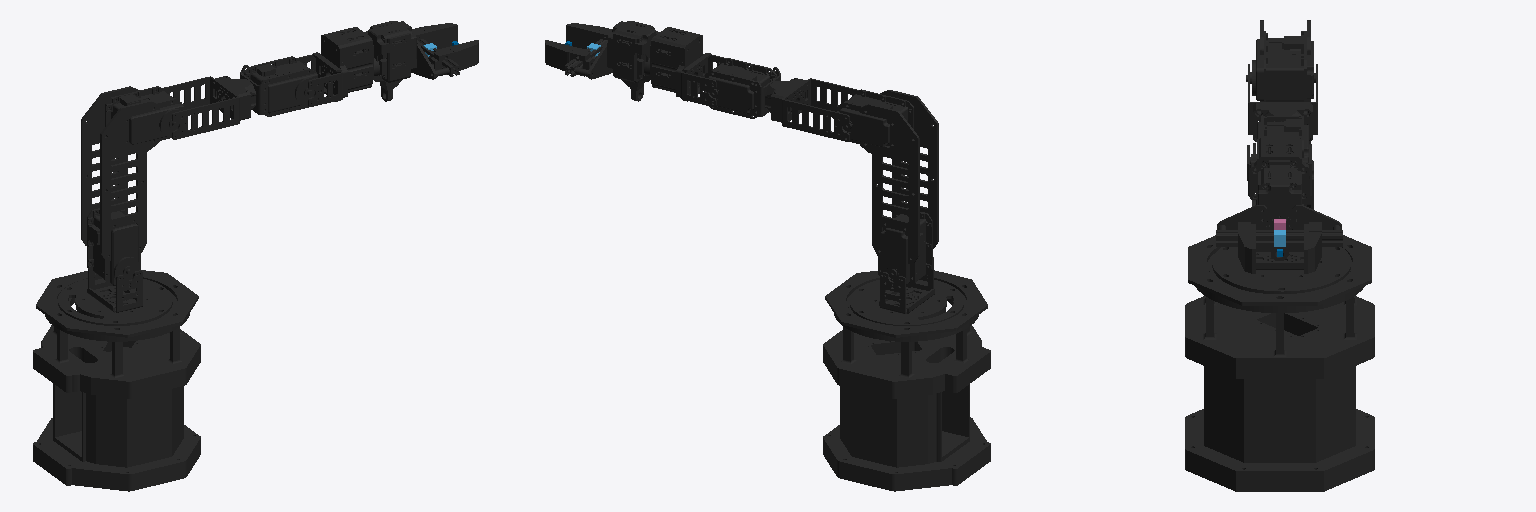
URDF robot description (widowxl):
<?xml version="1.0" ?>
<robot name="widowxl">
  
  <material name="interbotix_black">
    <color rgba="0.2 0.2 0.2 1.0"/>
  </material>

  <link name="widowxl/base_link">
    <visual>
      <origin rpy="0 0 0" xyz="0 0 0"/>
      <geometry>
        <mesh filename="package://my_widowxl_description/meshes/base_link.stl" scale="0.001 0.001 0.001"/>
      </geometry>
      <material name="interbotix_black"/>
    </visual>
    <collision>
      <origin rpy="0 0 0" xyz="0 0 0.05"/>
      <geometry>
        <cylinder length="0.1" radius="0.07"/>
      </geometry>
    </collision>
  </link>

  <joint name="waist" type="revolute">
    <axis xyz="0 0 1"/>
    <limit effort="10" lower="-3.1415" upper="3.1415" velocity="1.571"/>
    <origin rpy="0 0 0" xyz="0 0 0.167"/>
    <parent link="widowxl/base_link"/>
    <child link="widowxl/shoulder_link"/>
    <dynamics friction="0.1"/>
  </joint>

  <link name="widowxl/shoulder_link">
    <visual>
      <origin rpy="0 0 0" xyz="0 0 -0.167"/>
      <geometry>
        <mesh filename="package://my_widowxl_description/meshes/shoulder_link__4__1.stl" scale="0.001 0.001 0.001"/>
      </geometry>
      <material name="interbotix_black"/>
    </visual>
    <collision>
      <origin rpy="0 0 0" xyz="0 0 -0.167"/>
      <geometry>
        <cylinder length="0.1" radius="0.04"/>
      </geometry>
    </collision>
    <inertial>
      <origin rpy="0 0 0" xyz="0 0 -0.167"/>
      <mass value="0.5"/>
      <inertia ixx="0.001" ixy="0.0" ixz="0.0" iyy="0.001" iyz="0.0" izz="0.001"/>
    </inertial>
  </link>

  <joint name="shoulder" type="revolute">
    <axis xyz="0 1 0"/>
    <limit effort="20" lower="-1.571" upper="1.571" velocity="1.571"/>
    <origin rpy="0 0 0" xyz="0 0 0.0367"/>
    <parent link="widowxl/shoulder_link"/>
    <child link="widowxl/upper_arm_link"/>
    <dynamics friction="0.1"/>
  </joint>

  <link name="widowxl/upper_arm_link">
    <visual>
      <origin rpy="0 0 0" xyz="0 0 -0.2"/>
      <geometry>
        <mesh filename="package://my_widowxl_description/meshes/biceps_link_1.stl" scale="0.001 0.001 0.001"/>
      </geometry>
      <material name="interbotix_black"/>
    </visual>
    <collision>
      <origin rpy="0 1.5708 0" xyz="0.1 0 -0.2"/>
      <geometry>
        <cylinder length="0.15" radius="0.04"/>
      </geometry>
    </collision>
    <inertial>
      <origin rpy="0 0 0" xyz="0 0 -0.2"/>
      <mass value="0.5"/>
      <inertia ixx="0.001" ixy="0.0" ixz="0.0" iyy="0.001" iyz="0.0" izz="0.001"/>
    </inertial>
  </link>

  <joint name="elbow" type="revolute">
    <axis xyz="0 1 0"/>
    <limit effort="15" lower="-1.571" upper="1.571" velocity="1.571"/>
    <origin rpy="0 0 0" xyz="0.05 0 0.145"/>
    <parent link="widowxl/upper_arm_link"/>
    <child link="widowxl/forearm_link"/>
    <dynamics friction="0.1"/>
  </joint>

  <link name="widowxl/forearm_link">
    <visual>
      <origin rpy="0 0 0" xyz="-0.05 0 -0.347"/>
      <geometry>
        <mesh filename="package://my_widowxl_description/meshes/forearm_link_1.stl" scale="0.001 0.001 0.001"/>
      </geometry>
      <material name="interbotix_black"/>
    </visual>
    <collision>
      <origin rpy="0 1.5708 0" xyz="0.12 0 -0.347"/>
      <geometry>
         <cylinder length="0.25" radius="0.03"/>
      </geometry>
    </collision>
    <inertial>
      <origin rpy="0 0 0" xyz="-0.05 0 -0.347"/>
      <mass value="0.3"/>
      <inertia ixx="0.001" ixy="0.0" ixz="0.0" iyy="0.001" iyz="0.0" izz="0.001"/>
    </inertial>
  </link>

  <joint name="wrist_angle" type="revolute">
    <axis xyz="0 1 0"/>
    <limit effort="5" lower="-1.745" upper="1.745" velocity="1.571"/>
    <origin rpy="0 0 0" xyz="0.15 0 0"/>
    <parent link="widowxl/forearm_link"/>
    <child link="widowxl/wrist_link"/>
    <dynamics friction="0.1"/>
  </joint>

  <link name="widowxl/wrist_link">
    <visual>
      <origin rpy="0 0 0" xyz="-0.2 0 -0.347"/>
      <geometry>
        <mesh filename="package://my_widowxl_description/meshes/wrist_1_1.stl" scale="0.001 0.001 0.001"/>
      </geometry>
      <material name="interbotix_black"/>
    </visual>
    <collision>
       <origin rpy="0 0 0" xyz="-0.2 0 -0.347"/>
       <geometry>
         <box size="0.06 0.04 0.04"/>
       </geometry>
    </collision>
    <inertial>
      <origin rpy="0 0 0" xyz="-0.2 0 -0.347"/>
      <mass value="0.1"/>
      <inertia ixx="0.001" ixy="0.0" ixz="0.0" iyy="0.001" iyz="0.0" izz="0.001"/>
    </inertial>
  </link>

  <joint name="wrist_rotate" type="revolute">
    <axis xyz="1 0 0"/>
    <limit effort="1" lower="-2.167" upper="2.167" velocity="1.571"/>
    <origin rpy="0 0 0" xyz="0.08 0 0"/>
    <parent link="widowxl/wrist_link"/>
    <child link="widowxl/wrist_2_link"/>
    <dynamics friction="0.1"/>
  </joint>

  <link name="widowxl/wrist_2_link">
    <visual>
      <origin rpy="0 0 0" xyz="-0.28 0.0 -0.347"/>
      <geometry>
        <mesh filename="package://my_widowxl_description/meshes/wrist_2_1.stl" scale="0.001 0.001 0.001"/>
      </geometry>
      <material name="interbotix_black"/>
    </visual>
    <collision>
      <origin rpy="0 0 0" xyz="-0.28 0.0 -0.347"/>
      <geometry>
        <box size="0.04 0.04 0.04"/>
      </geometry>
    </collision>
    <inertial>
      <origin rpy="0 0 0" xyz="-0.28 0.0 -0.347"/>
      <mass value="0.1"/>
      <inertia ixx="0.001" ixy="0.0" ixz="0.0" iyy="0.001" iyz="0.0" izz="0.001"/>
    </inertial>
  </link>

  <joint name="ee_arm" type="fixed">
    <axis xyz="1 0 0"/>
    <origin rpy="0 0 0" xyz="0.043 0 0"/>
    <parent link="widowxl/wrist_2_link"/>
    <child link="widowxl/ee_arm_link"/>
  </joint>

  <link name="widowxl/ee_arm_link">
    <visual>
      <geometry><box size="0.01 0.01 0.01"/></geometry>
    </visual>
    <inertial>
      <mass value="0.001"/>
      <inertia ixx="0.001" ixy="0" ixz="0" iyy="0.001" iyz="0" izz="0.001"/>
    </inertial>
  </link>

  <joint name="gripper" type="continuous">
    <axis xyz="1 0 0"/>
    <limit effort="1" velocity="3.1415"/>
    <origin rpy="0 0 0" xyz="0.0055 0 0"/>
    <parent link="widowxl/ee_arm_link"/>
    <child link="widowxl/gripper_prop_link"/>
  </joint>

  <link name="widowxl/gripper_prop_link">
    <inertial>
      <mass value="0.01"/>
      <inertia ixx="0.001" ixy="0.0" ixz="0.0" iyy="0.001" iyz="0.0" izz="0.001"/>
    </inertial>
  </link>

  <joint name="gripper_bar" type="fixed">
    <axis xyz="1 0 0"/>
    <origin rpy="0 0 0" xyz="0 0 0"/>
    <parent link="widowxl/ee_arm_link"/>
    <child link="widowxl/gripper_bar_link"/>
  </joint>

  <link name="widowxl/gripper_bar_link">
    <inertial>
      <origin rpy="0 0 1.5707" xyz="0.009 0.0 0.004"/>
      <mass value="0.05"/>
      <inertia ixx="0.001" ixy="0.0" ixz="0.0" iyy="0.001" iyz="0.0" izz="0.001"/>
    </inertial>
  </link>

  <joint name="ee_bar" type="fixed">
    <axis xyz="1 0 0"/>
    <origin rpy="0 0 0" xyz="0.023 0 0"/>
    <parent link="widowxl/gripper_bar_link"/>
    <child link="widowxl/fingers_link"/>
  </joint>

  <link name="widowxl/fingers_link">
    <visual>
      <geometry><box size="0.01 0.01 0.01"/></geometry>
    </visual>
    <inertial>
      <mass value="0.01"/>
      <inertia ixx="0.001" ixy="0" ixz="0" iyy="0.001" iyz="0" izz="0.001"/>
    </inertial>
  </link>

  <joint name="left_finger" type="prismatic">
    <axis xyz="0 1 0"/>
    <limit effort="5" lower="0.015" upper="0.037" velocity="1"/>
    <origin rpy="0 0 0" xyz="0 0 0"/>
    <parent link="widowxl/fingers_link"/>
    <child link="widowxl/left_finger_link"/>
    <dynamics friction="0.1"/>
  </joint>

  <link name="widowxl/left_finger_link">
    <visual>
      <origin rpy="0 0 0" xyz="-0.346 -0.007 -0.347"/>
      <geometry>
        <mesh filename="package://my_widowxl_description/meshes/finger.stl" scale="0.001 0.001 0.001"/>
      </geometry>
      <material name="interbotix_black"/>
    </visual>
    <collision>
       <origin rpy="0 0 0" xyz="-0.346 -0.007 -0.347"/>
       <geometry>
         <box size="0.02 0.01 0.01"/>
       </geometry>
    </collision>
    <inertial>
      <origin rpy="0 0 0" xyz="0 0 0"/>
      <mass value="0.02"/>
      <inertia ixx="0.001" ixy="0" ixz="0" iyy="0.001" iyz="0" izz="0.001"/>
    </inertial>
  </link>

  <joint name="right_finger" type="prismatic">
    <axis xyz="0 1 0"/>
    <limit effort="5" lower="-0.037" upper="-0.015" velocity="1"/>
    <origin rpy="0 0 0" xyz="0 0 0"/>
    <parent link="widowxl/fingers_link"/>
    <child link="widowxl/right_finger_link"/>
    <dynamics friction="0.1"/>
    <mimic joint="left_finger" multiplier="-1" offset="0"/>
  </joint>

  <link name="widowxl/right_finger_link">
    <visual>
      <origin rpy="-3.1415 0 0" xyz="-0.346 0.007 0.345"/>
      <geometry>
        <mesh filename="package://my_widowxl_description/meshes/finger.stl" scale="0.001 0.001 0.001"/>
      </geometry>
      <material name="interbotix_black"/>
    </visual>
    <collision>
       <origin rpy="-3.1415 0 0" xyz="-0.346 0.007 0.345"/>
       <geometry>
         <box size="0.02 0.01 0.01"/>
       </geometry>
    </collision>
    <inertial>
      <origin rpy="0 0 0" xyz="0 0 0"/>
      <mass value="0.02"/>
      <inertia ixx="0.001" ixy="0" ixz="0" iyy="0.001" iyz="0" izz="0.001"/>
    </inertial>
  </link>

  <joint name="ee_gripper" type="fixed">
    <axis xyz="1 0 0"/>
    <origin rpy="0 0 0" xyz="0.027575 0 0"/>
    <parent link="widowxl/fingers_link"/>
    <child link="widowxl/ee_gripper_link"/>
  </joint>

  <link name="widowxl/ee_gripper_link">
    <visual>
      <geometry><box size="0.005 0.005 0.005"/></geometry>
    </visual>
    <inertial>
      <mass value="0.001"/>
      <inertia ixx="0.001" ixy="0" ixz="0" iyy="0.001" iyz="0" izz="0.001"/>
    </inertial>
  </link>

</robot>

--- Facts derived from the render (not from the file) ---
Views: 3 orthographic renders of the robot side by side, from view 1: azimuth 30°, elevation 25°; view 2: azimuth 150°, elevation 25°; view 3: azimuth 270°, elevation 25°.
Robot: widowxl — 13 links, 12 joints (5 revolute, 1 continuous, 2 prismatic, 4 fixed); root link widowxl/base_link; default pose: joints at zero except 2 at the middle of their limits (left_finger = 0.026, right_finger = -0.026).
Visible links, largest first — view 1: widowxl/base_link, widowxl/upper_arm_link, widowxl/forearm_link, widowxl/shoulder_link, widowxl/wrist_link, widowxl/wrist_2_link, widowxl/right_finger_link, widowxl/left_finger_link; view 2: widowxl/base_link, widowxl/upper_arm_link, widowxl/forearm_link, widowxl/shoulder_link, widowxl/wrist_link, widowxl/wrist_2_link, widowxl/left_finger_link, widowxl/right_finger_link; view 3: widowxl/base_link, widowxl/wrist_2_link, widowxl/shoulder_link, widowxl/upper_arm_link, widowxl/forearm_link, widowxl/wrist_link, widowxl/right_finger_link, widowxl/left_finger_link.
Boxes of the visible links, x1,y1,x2,y2 form: widowxl/base_link: [33, 270, 200, 491]; widowxl/upper_arm_link: [81, 86, 184, 285]; widowxl/forearm_link: [163, 56, 320, 139]; widowxl/shoulder_link: [58, 269, 172, 325]; widowxl/wrist_link: [291, 27, 373, 106]; widowxl/wrist_2_link: [364, 21, 459, 101]; widowxl/right_finger_link: [430, 40, 478, 75]; widowxl/left_finger_link: [412, 23, 457, 48]; widowxl/base_link: [823, 270, 990, 491]; widowxl/upper_arm_link: [836, 89, 938, 287]; widowxl/forearm_link: [705, 58, 858, 141]; widowxl/shoulder_link: [850, 257, 963, 325]; widowxl/wrist_link: [650, 27, 729, 106]; widowxl/wrist_2_link: [565, 21, 659, 101]; widowxl/left_finger_link: [545, 40, 593, 76]; widowxl/right_finger_link: [566, 23, 612, 48]; widowxl/base_link: [1185, 235, 1374, 491]; widowxl/wrist_2_link: [1216, 165, 1342, 260]; widowxl/shoulder_link: [1212, 247, 1350, 293]; widowxl/upper_arm_link: [1246, 20, 1315, 209]; widowxl/forearm_link: [1248, 64, 1317, 163]; widowxl/wrist_link: [1247, 137, 1311, 199]; widowxl/right_finger_link: [1238, 222, 1255, 273]; widowxl/left_finger_link: [1304, 222, 1321, 273].
Bounding box of the posed robot: 0.4628 × 0.1496 × 0.3851 m (x, y, z).
Meshes: 7 distinct files referenced, 8 mesh visuals loaded (7 binary STL).
